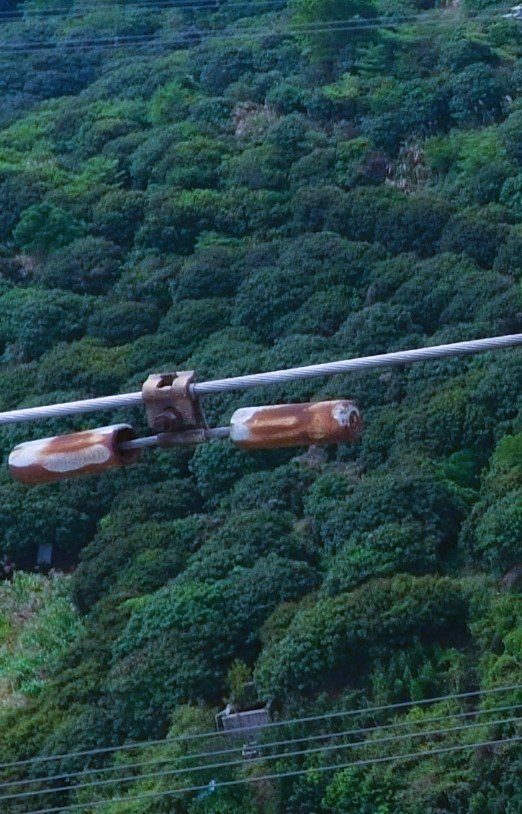Shockproof hammer: (1, 350, 359, 495)
